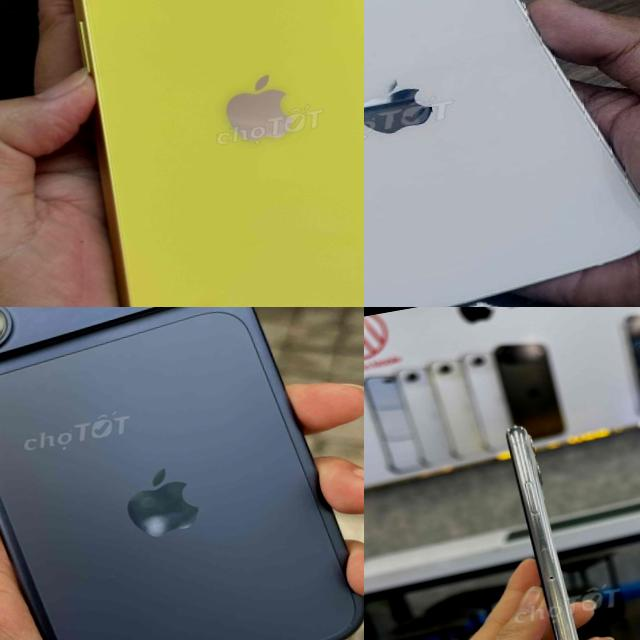scratch: (530, 511, 560, 576), (542, 612, 600, 640)
